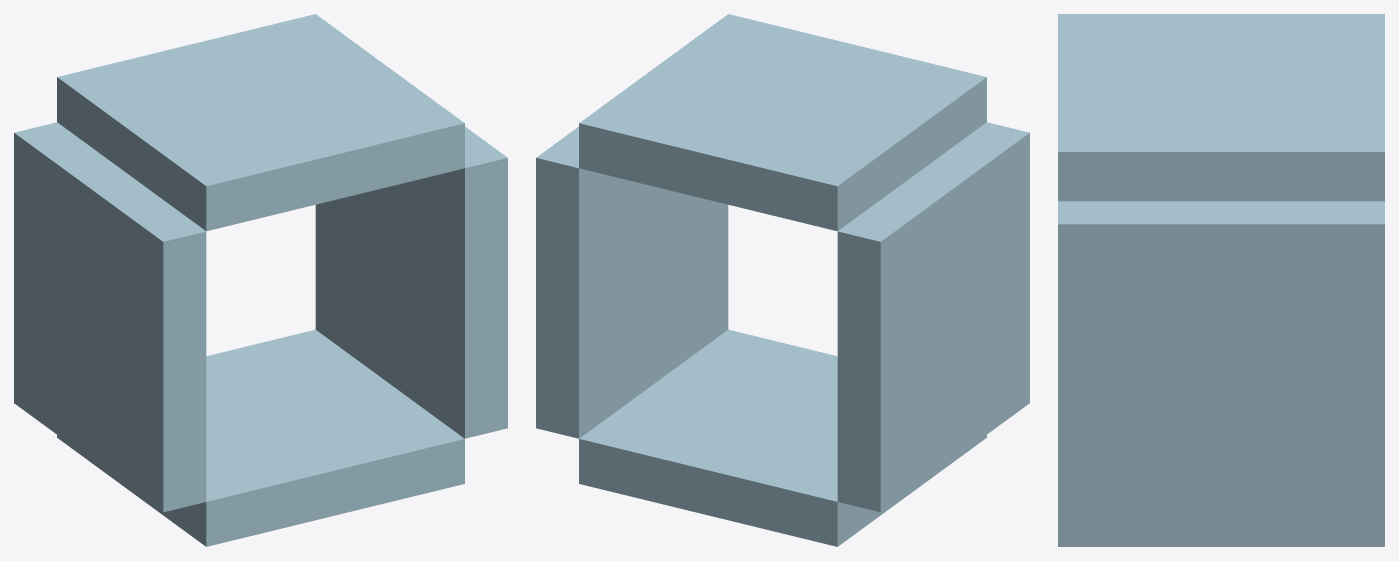
Rendered from hut2.obj.
3 renders of one model, left to right at view 1: azimuth 30°, elevation 25°; view 2: azimuth 150°, elevation 25°; view 3: azimuth 270°, elevation 25°, orthographic. The views are drawn at different scales.
Parts seen in each view (by area): view 1: plane; view 2: plane; view 3: plane.
Part boxes in pixels (bbox=[...]): plane: bbox=[14, 14, 507, 546]; plane: bbox=[536, 14, 1029, 546]; plane: bbox=[1058, 14, 1384, 546].
Bounding box in the file's own units: 0.5 × 0.5 × 0.375.
Materials: 1 (1 with a texture image).
